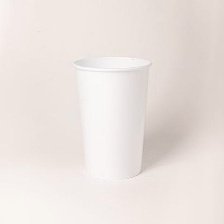paper_cup: (66, 50, 156, 184)
